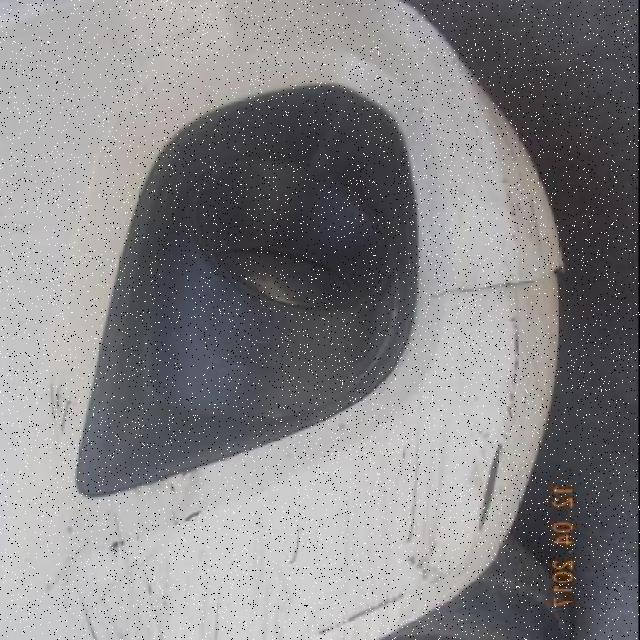damage: (37, 537, 182, 640), (469, 308, 525, 540), (405, 436, 456, 592), (479, 107, 527, 253), (430, 259, 577, 304), (500, 122, 548, 256), (314, 588, 416, 640), (404, 379, 430, 547), (47, 377, 86, 449), (168, 503, 217, 535), (98, 531, 155, 558)
